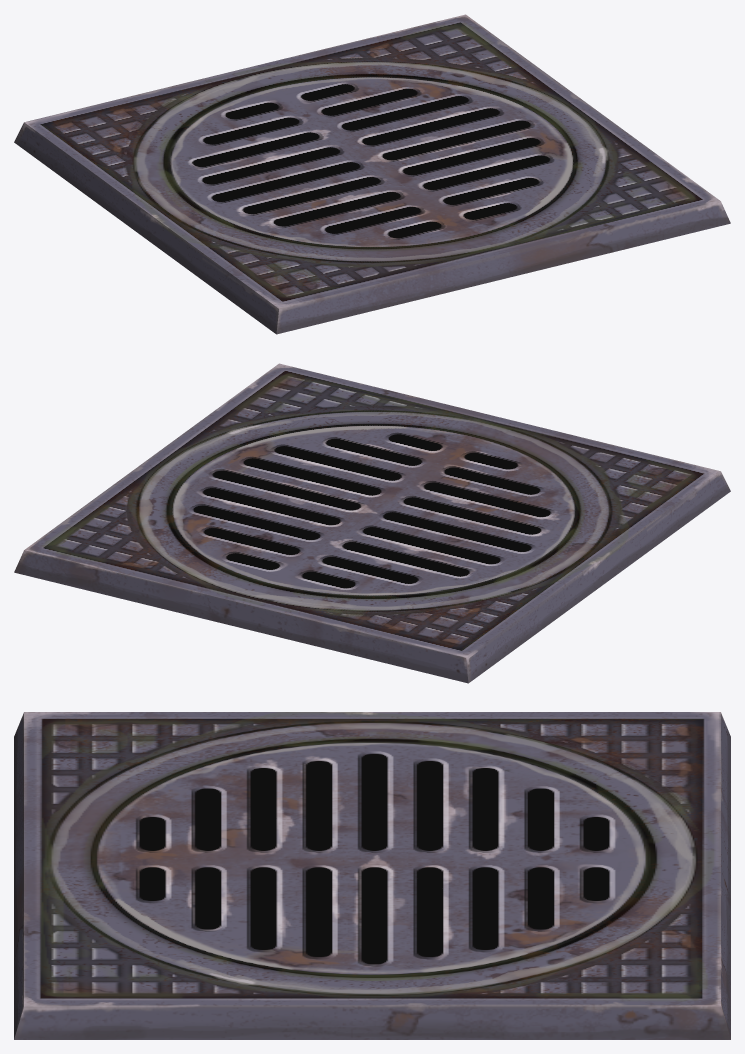
Rendered from manhole03.fbx.
3 views of the same model, one above another, from view 1: azimuth 30°, elevation 25°; view 2: azimuth 150°, elevation 25°; view 3: azimuth 270°, elevation 25° (orthographic). The views are drawn at different scales.
Visible parts, largest first — view 1: manhole03; view 2: manhole03; view 3: manhole03.
Part boxes in pixels (x1=…): manhole03: x1=14, y1=14, x2=730, y2=334; manhole03: x1=14, y1=363, x2=730, y2=683; manhole03: x1=14, y1=712, x2=730, y2=1039.
Bounding box in the file's own units: 112 × 5 × 112.
